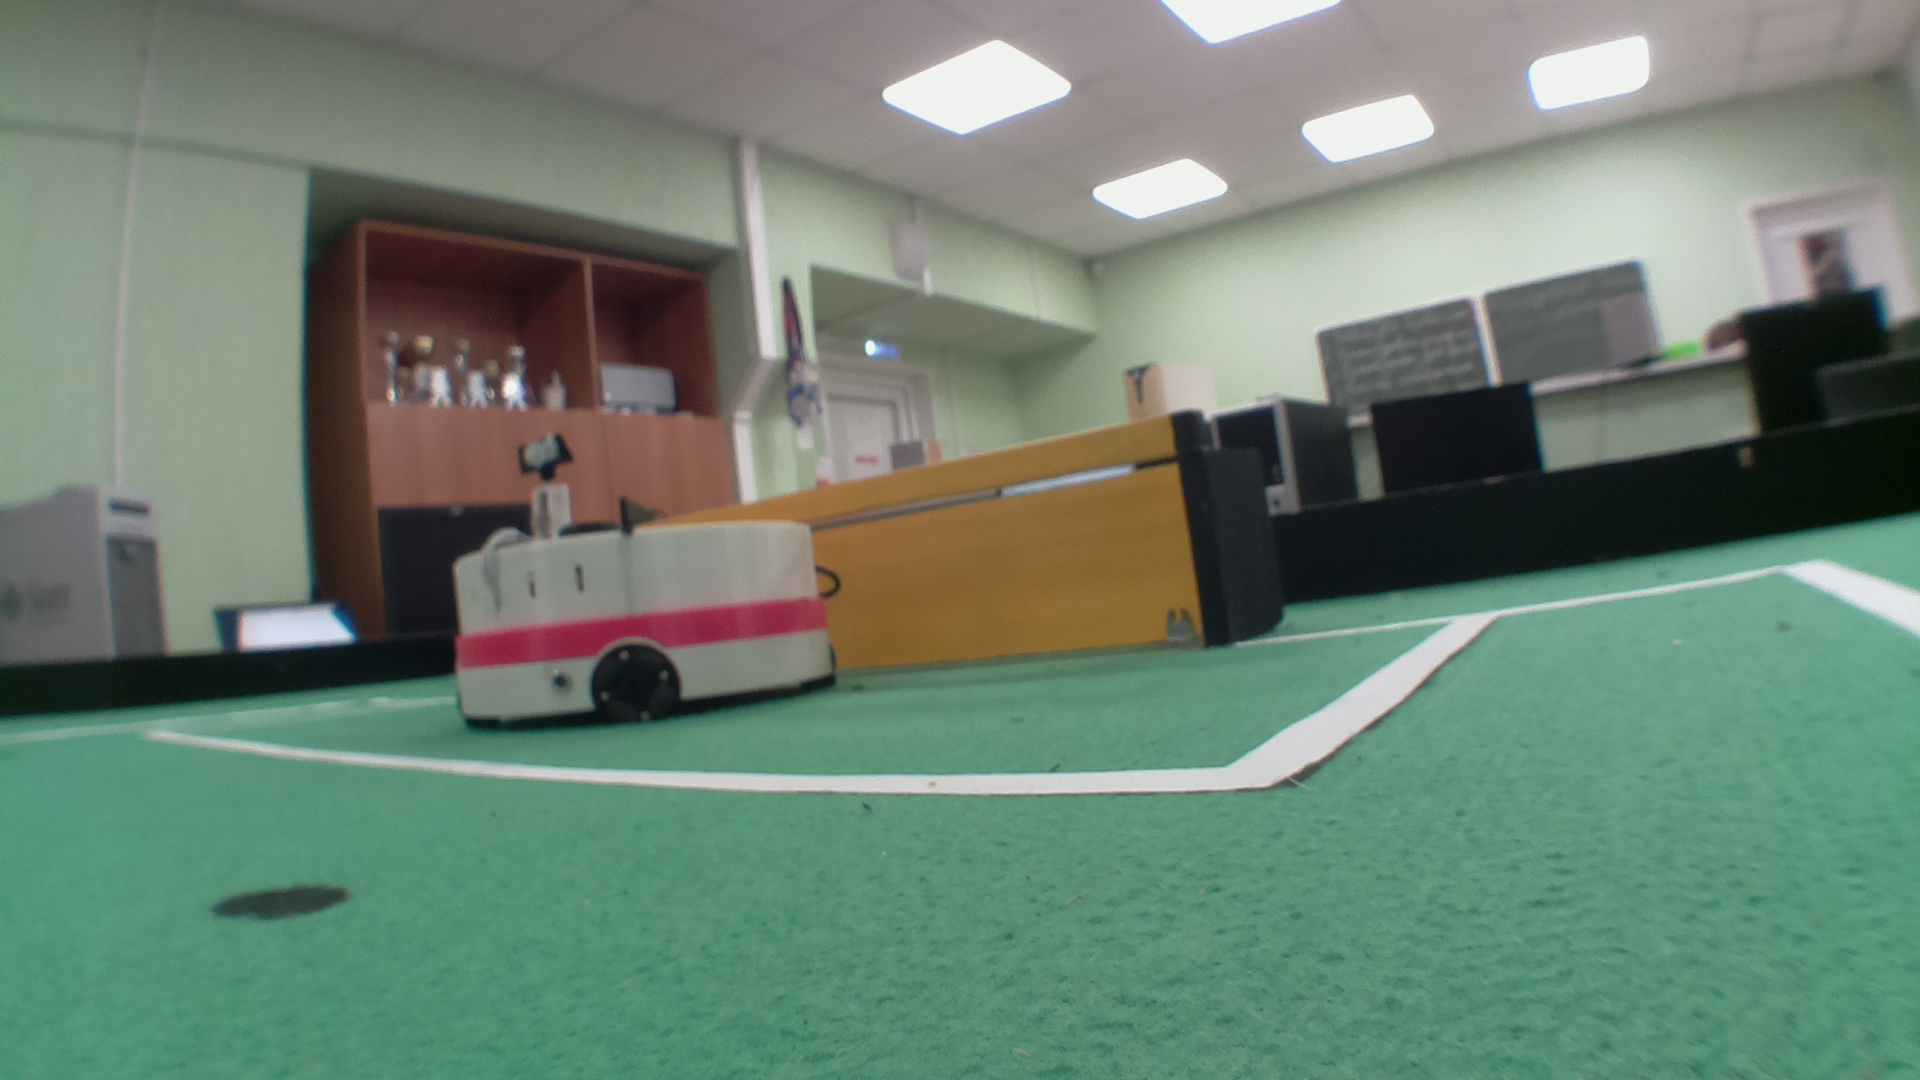YellowGoal: (746, 415, 1200, 654)
